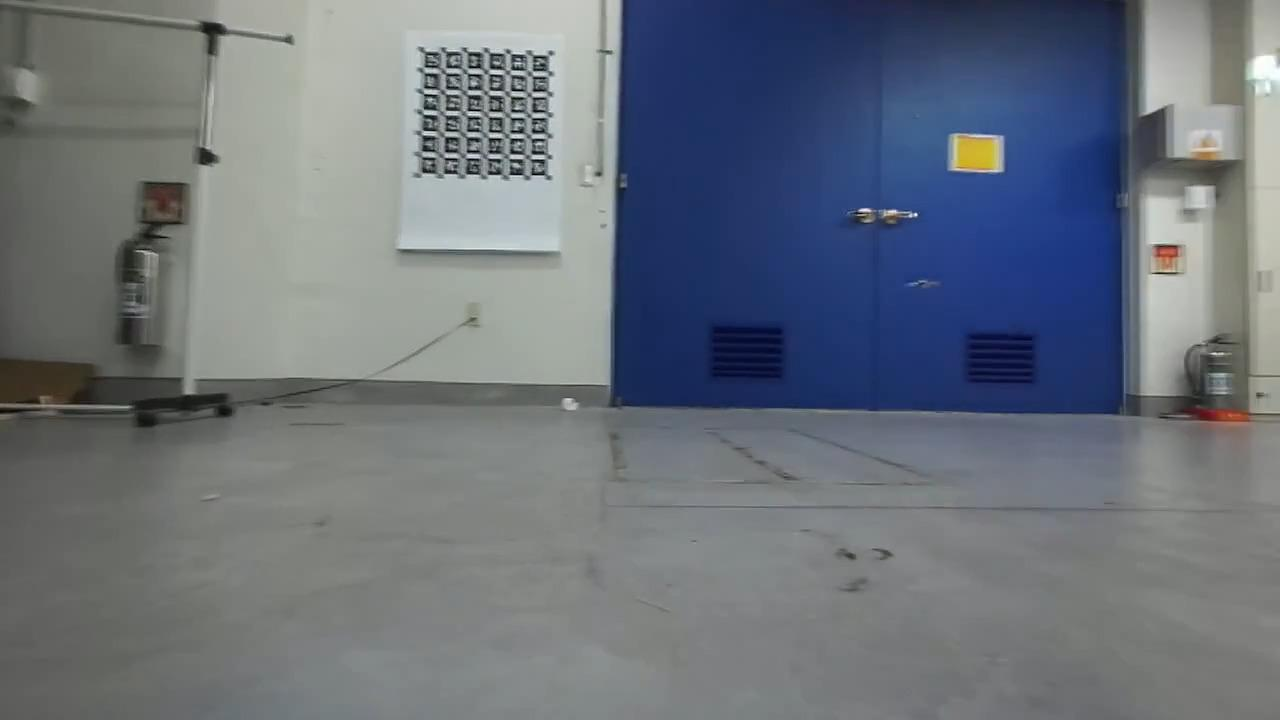crazyflie: (896, 276, 947, 295)
